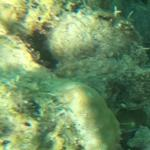dead: (1, 15, 146, 146)
